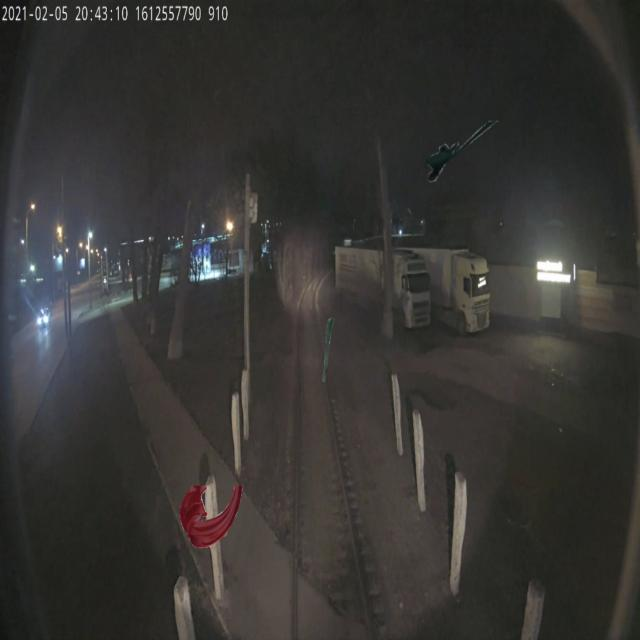floating object: (426, 119, 500, 183), (180, 484, 243, 548), (322, 318, 334, 382)
